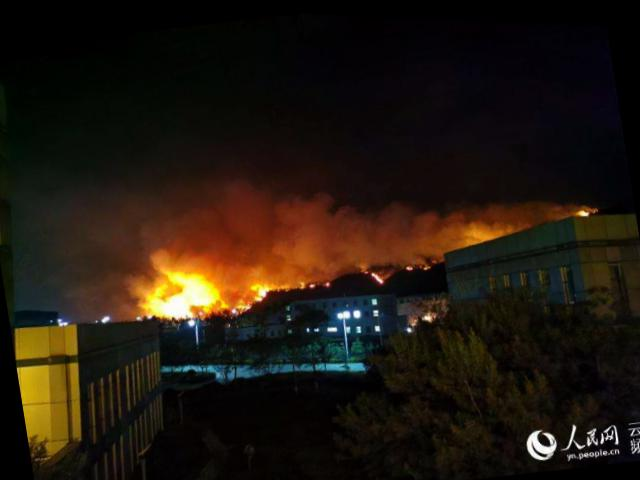fire: (135, 255, 240, 327)
